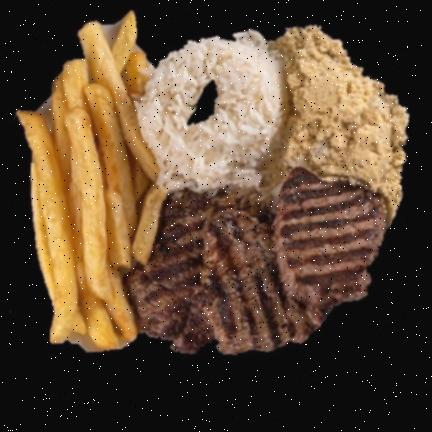meat: (126, 168, 384, 353)
potato: (17, 12, 164, 349)
rice: (136, 33, 284, 191)
